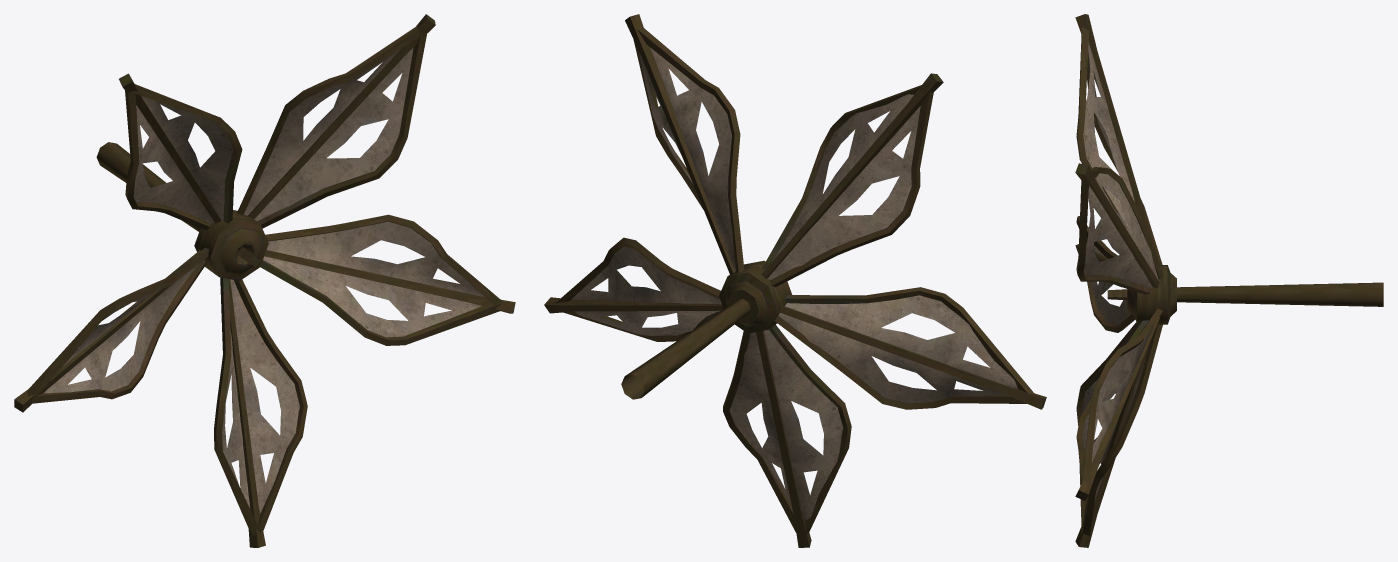
Rendered from windmill_sails.glb.
3 views of the same model, side by side, from view 1: azimuth 30°, elevation 25°; view 2: azimuth 150°, elevation 25°; view 3: azimuth 270°, elevation 25° (orthographic). The views are drawn at different scales.
Parts seen in each view (by area): view 1: SM_Windmill_Wings; view 2: SM_Windmill_Wings; view 3: SM_Windmill_Wings.
Boxes of the visible parts, x1,y1,x2,y2 form: SM_Windmill_Wings: (14, 14, 515, 547); SM_Windmill_Wings: (544, 14, 1046, 547); SM_Windmill_Wings: (1075, 14, 1383, 547).
Size of the model in its own units: 4.51 by 4.36 by 2.57.
1 material, 1 textured.
